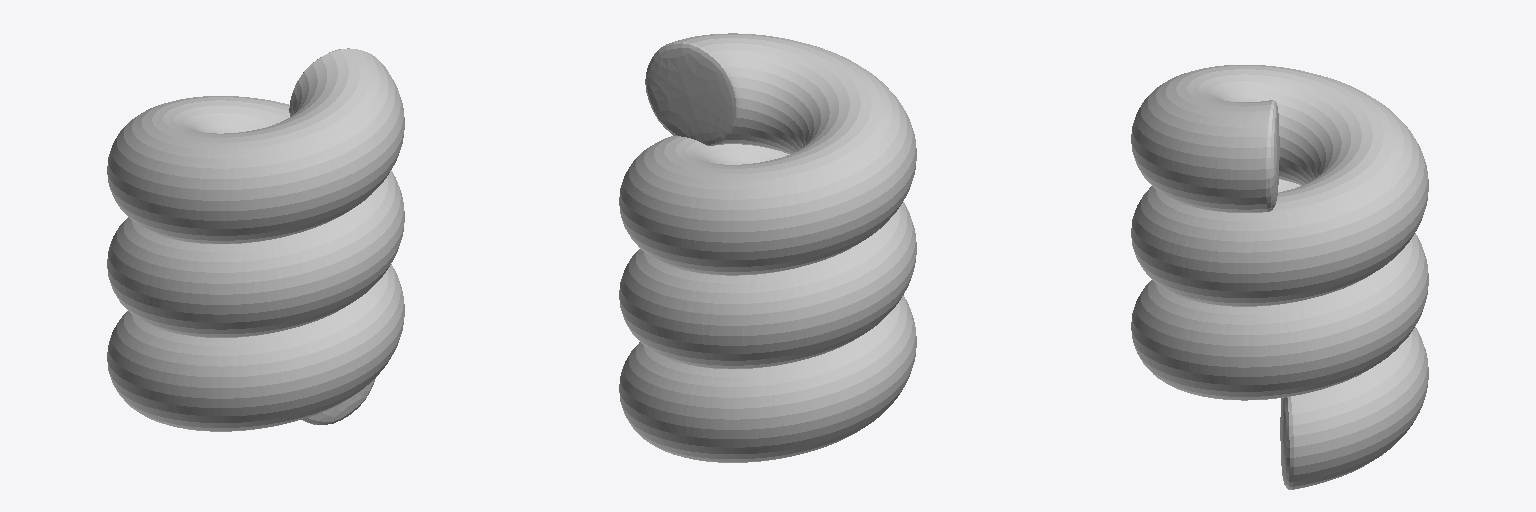
File: helix_17.5.obj
The picture shows the model from 3 angles: view 1: azimuth 30°, elevation 25°; view 2: azimuth 150°, elevation 25°; view 3: azimuth 270°, elevation 25°; orthographic projection.
Visible parts, largest first — view 1: helix:pHelix1; view 2: helix:pHelix1; view 3: helix:pHelix1.
Boxes of the visible parts, x1=… form: helix:pHelix1: x1=107, y1=48, x2=404, y2=431; helix:pHelix1: x1=619, y1=33, x2=916, y2=462; helix:pHelix1: x1=1131, y1=65, x2=1428, y2=489.
Size of the model in its own units: 1.92 by 2.71 by 1.92.